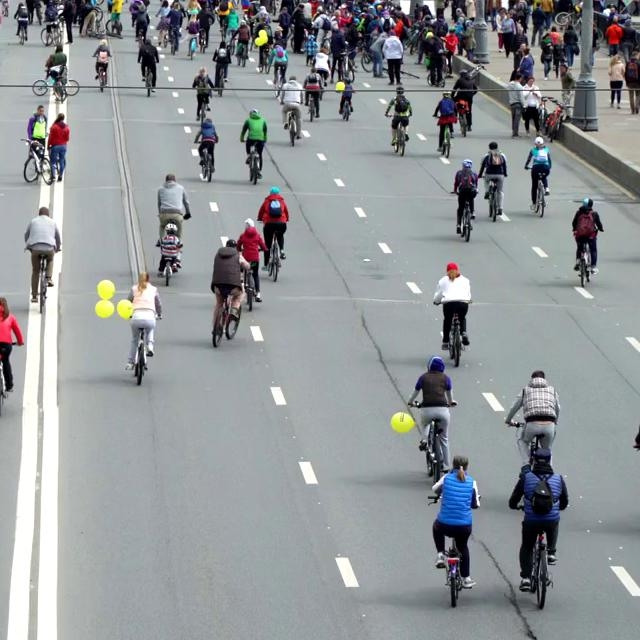bicycle: (426, 493, 482, 607), (515, 503, 560, 610), (408, 400, 457, 482), (125, 314, 162, 385), (433, 300, 471, 367), (24, 246, 56, 314), (210, 286, 243, 348), (573, 229, 603, 286), (20, 137, 53, 184), (32, 65, 79, 98), (451, 189, 477, 242), (156, 241, 182, 286), (526, 168, 549, 217), (481, 175, 505, 221), (278, 100, 302, 146), (450, 91, 474, 137), (263, 230, 284, 282), (434, 114, 456, 158), (240, 261, 258, 312), (196, 140, 216, 182), (244, 141, 263, 184), (389, 116, 409, 156), (305, 86, 324, 122), (93, 57, 110, 92), (194, 89, 212, 122), (338, 89, 355, 121), (143, 64, 156, 97), (15, 17, 28, 45)
